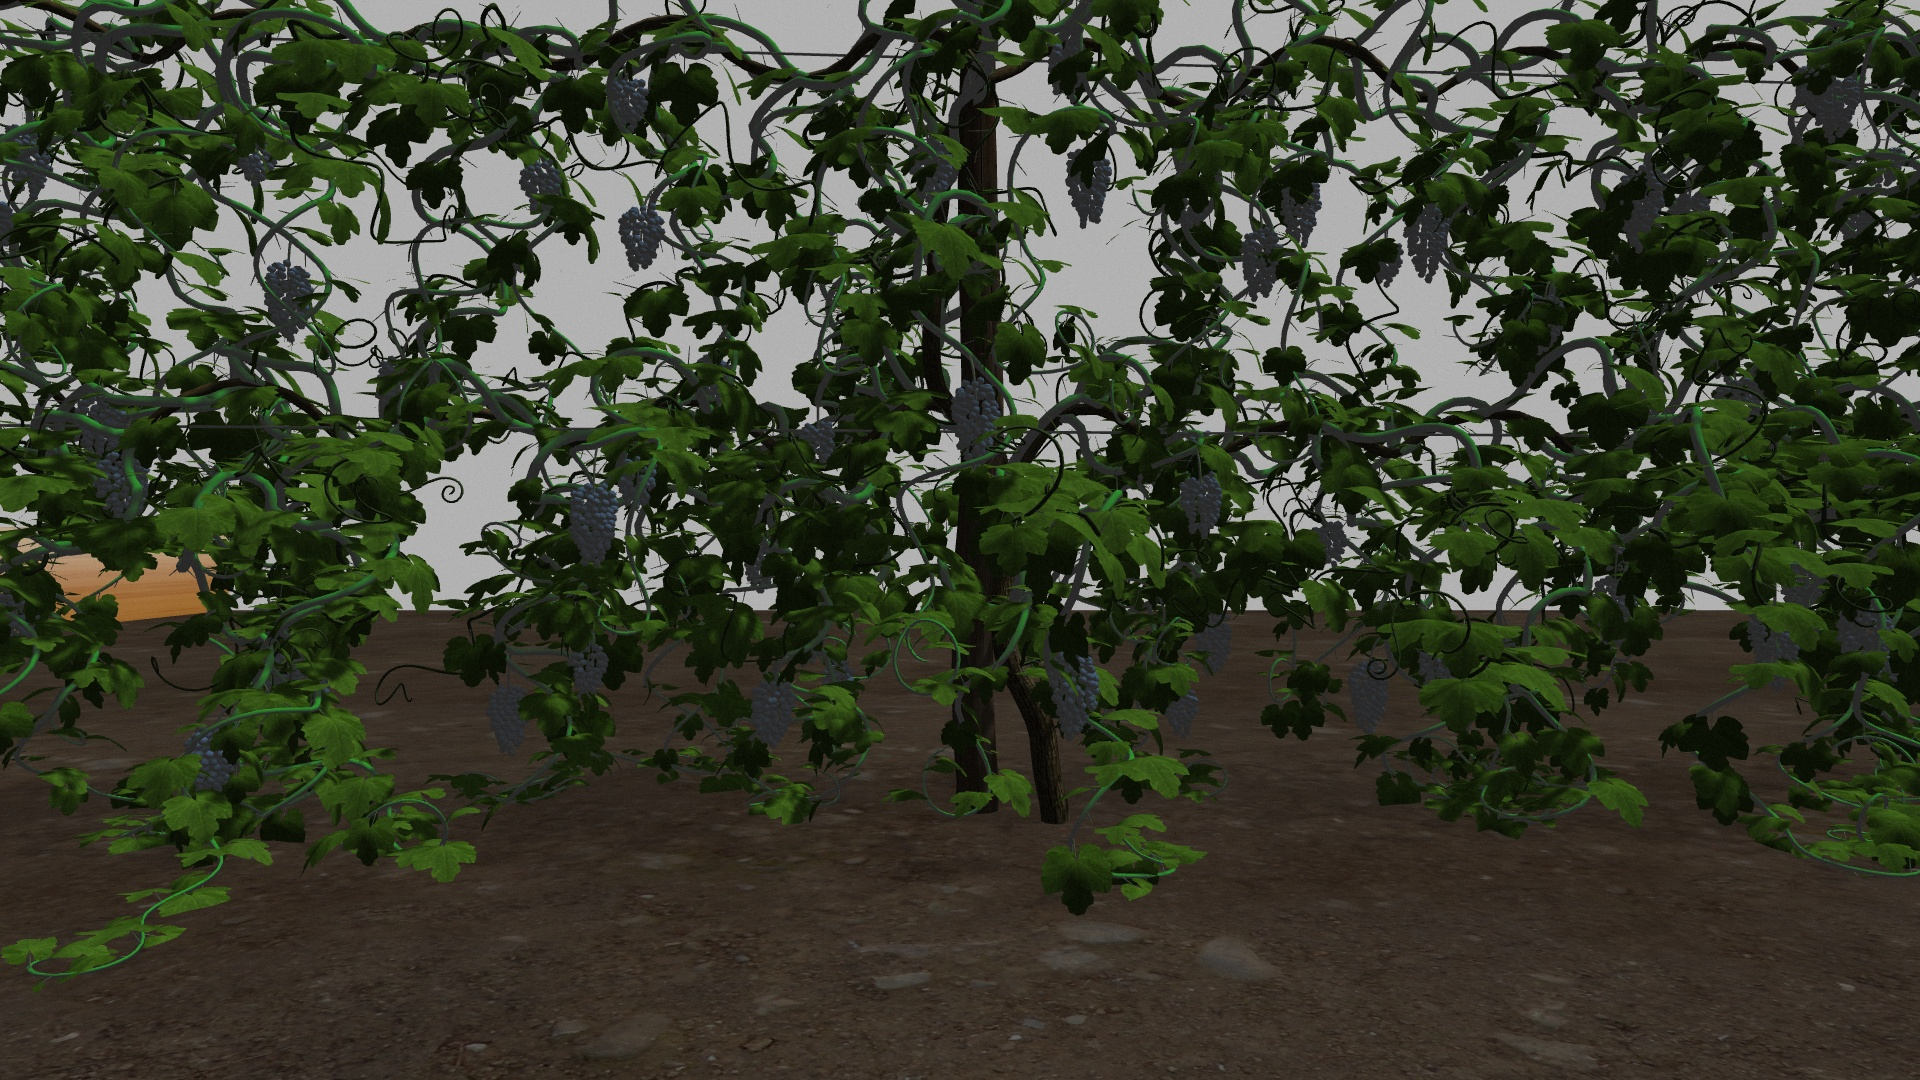grape: (949, 376, 1001, 465), (568, 481, 621, 568), (1836, 603, 1894, 680), (1054, 647, 1101, 742), (261, 261, 316, 342), (1617, 164, 1664, 255), (1400, 202, 1449, 284), (1746, 616, 1799, 691), (1065, 148, 1112, 229), (7, 123, 54, 198), (96, 452, 149, 520), (182, 727, 236, 791), (749, 680, 800, 748), (1346, 659, 1391, 735), (618, 206, 665, 276), (1178, 471, 1224, 541), (487, 687, 531, 757), (1241, 224, 1280, 302), (1280, 179, 1324, 248), (1818, 76, 1859, 144), (913, 141, 953, 204), (80, 401, 129, 454), (1195, 608, 1233, 674), (605, 76, 647, 133), (520, 156, 564, 206), (1792, 63, 1836, 113), (1164, 684, 1201, 742), (574, 642, 609, 698), (799, 421, 836, 463), (1311, 521, 1348, 563), (237, 152, 274, 182)
